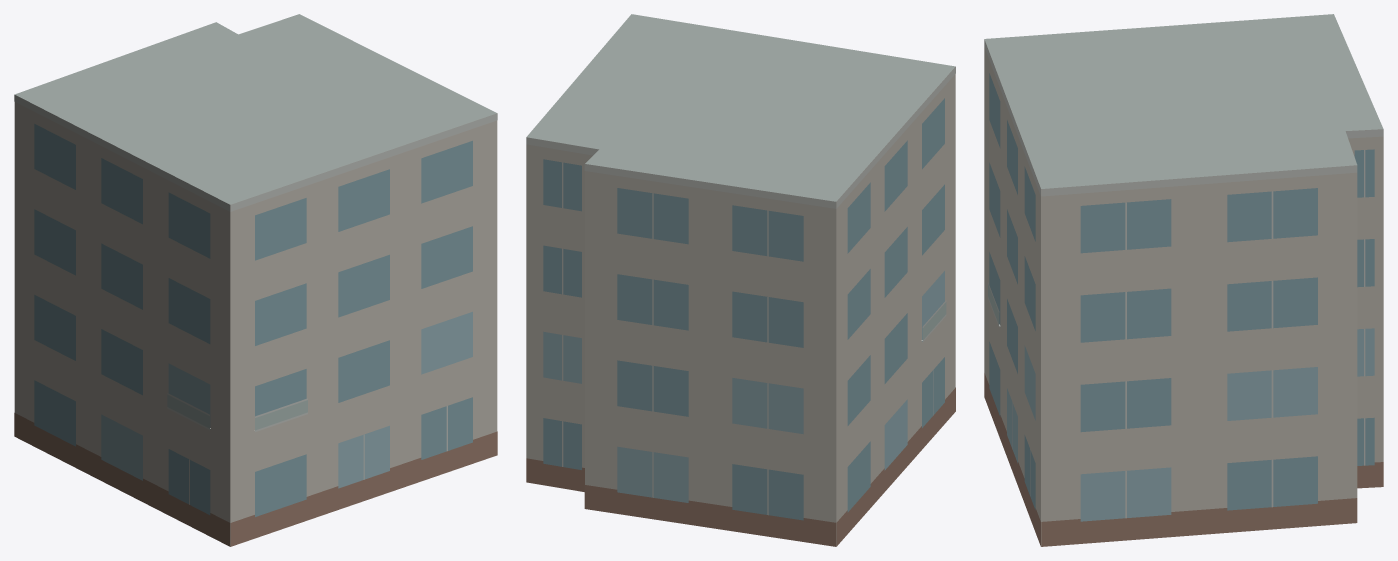
Rendered from survey-upis-32575473.glb.
3 renders of one model, left to right at view 1: azimuth 30°, elevation 25°; view 2: azimuth 150°, elevation 25°; view 3: azimuth 270°, elevation 25°, orthographic. The views are drawn at different scales.
Parts seen in each view (by area): view 1: survey-upis-32575473.tmp; view 2: survey-upis-32575473.tmp; view 3: survey-upis-32575473.tmp.
Part boxes in pixels (x1=…): survey-upis-32575473.tmp: x1=14, y1=14, x2=497, y2=546; survey-upis-32575473.tmp: x1=526, y1=14, x2=955, y2=546; survey-upis-32575473.tmp: x1=984, y1=14, x2=1383, y2=546.
Size of the model in its own units: 12.36 by 11.77 by 11.92.
